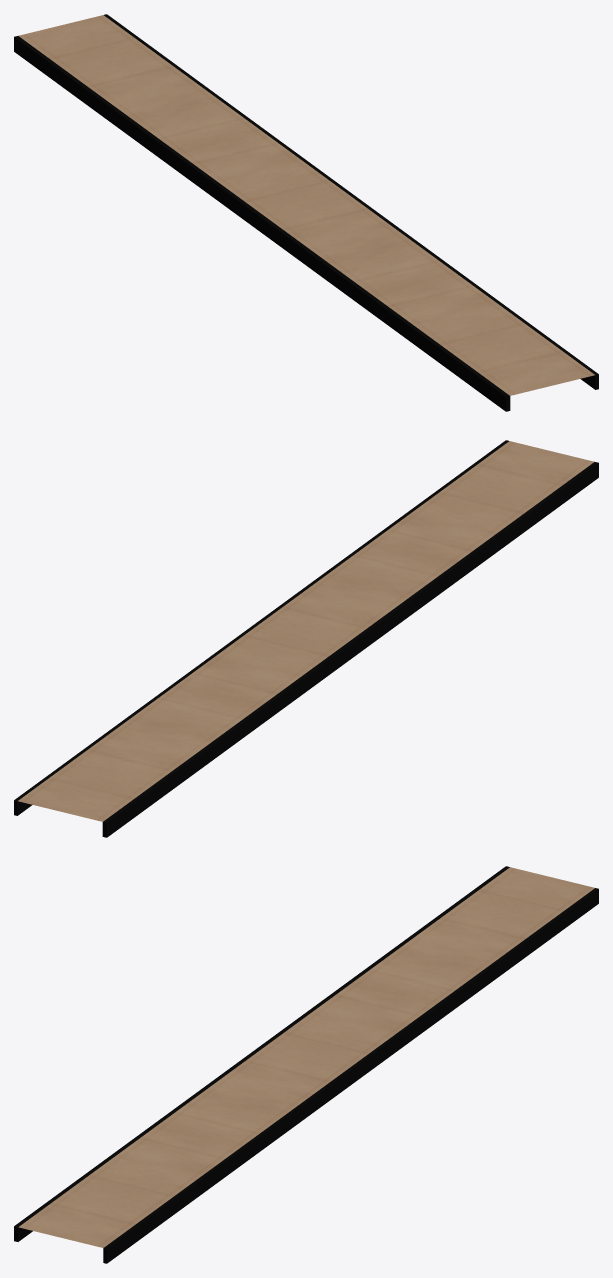
File: Floor.fbx
The picture shows the model from 3 angles, top to bottom: view 1: azimuth 30°, elevation 25°; view 2: azimuth 150°, elevation 25°; view 3: azimuth 330°, elevation 25°; orthographic projection.
Parts seen in each view (by area): view 1: Floor, Border_l, Border_r; view 2: Floor, Border_l, Border_r; view 3: Floor, Border_r, Border_l.
Boxes of the visible parts, x1,y1,x2,y2 form: Floor: (18, 15, 594, 395); Border_l: (14, 36, 510, 411); Border_r: (104, 14, 598, 389); Floor: (18, 441, 594, 821); Border_l: (102, 462, 598, 837); Border_r: (14, 440, 508, 815); Floor: (18, 867, 594, 1247); Border_r: (103, 888, 598, 1263); Border_l: (14, 866, 509, 1241).
Size of the model in its own units: 655 by 100 by 6000.
2 materials, 1 textured.
